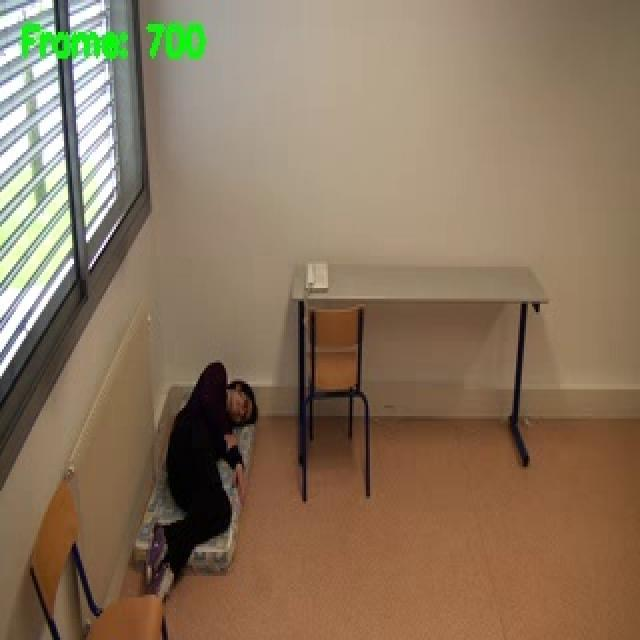fall: (141, 355, 260, 603)
